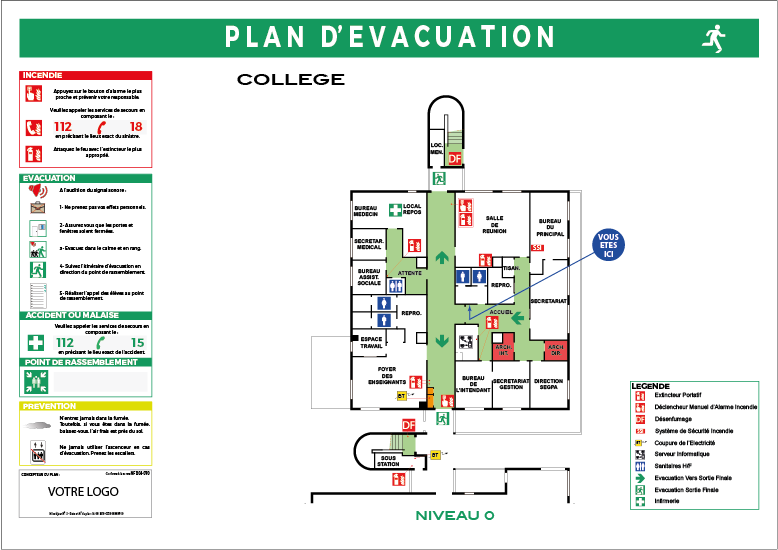exit: (29, 259, 47, 278), (435, 409, 450, 425), (432, 170, 447, 184), (635, 484, 645, 496)
extincteur: (25, 146, 43, 164), (455, 211, 474, 226), (391, 472, 405, 487), (410, 375, 424, 390), (479, 253, 495, 265), (485, 315, 499, 328), (407, 240, 421, 252), (635, 390, 645, 402)
incendie: (23, 84, 42, 103), (457, 196, 473, 212), (440, 393, 455, 409), (634, 403, 645, 414)
secour: (25, 333, 45, 353), (388, 203, 404, 217), (635, 496, 647, 506)
telephone: (22, 117, 42, 137)
